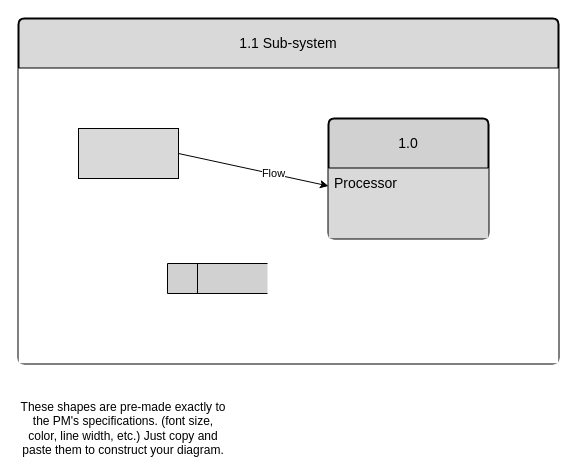
Image size: 576x475. Some labels were removed from this diagram. The shapes that lost their labels are listed below. From the top down, each one's centre as x and y in pixels, then its label:
point (128, 153): Interactors
point (217, 278): 1 Storage
